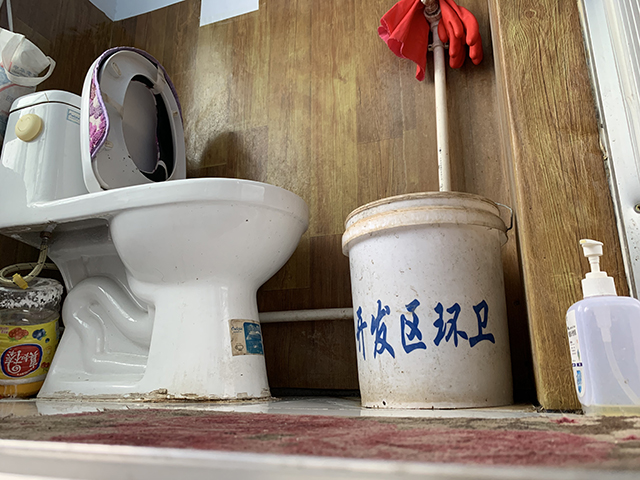carpet: (1, 406, 640, 480)
closestool: (1, 42, 315, 408)
